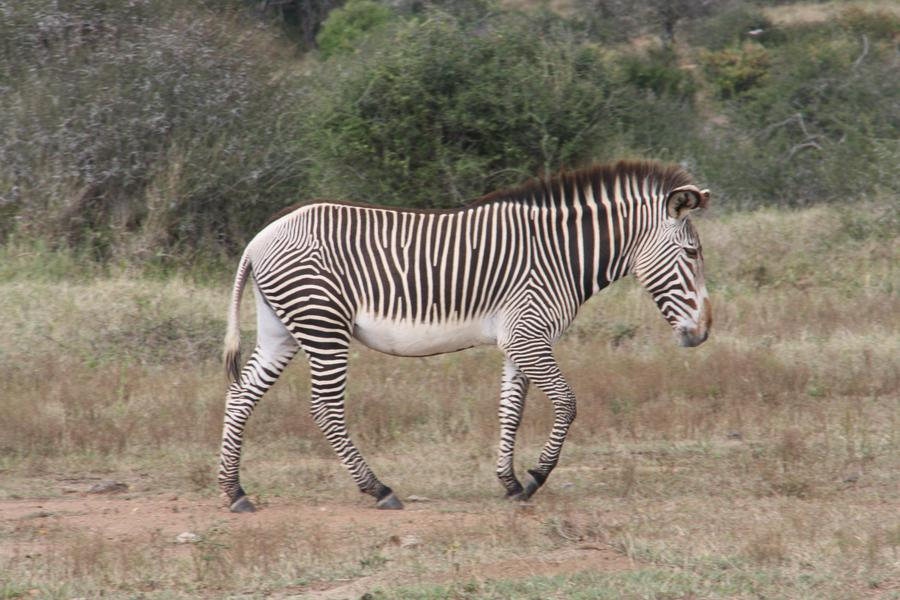zebra_grevys: (235, 191, 561, 338)
